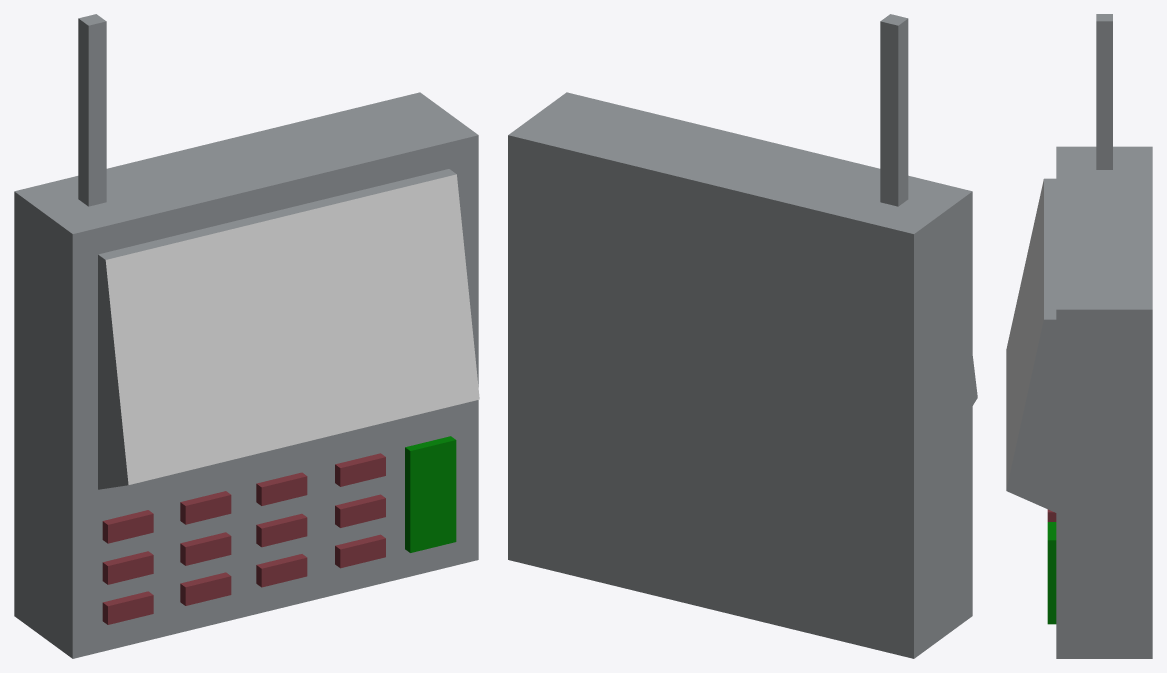
The model's file is Hackable_module_B.fbx.
The picture shows the model from 3 angles, left to right: view 1: azimuth 30°, elevation 25°; view 2: azimuth 150°, elevation 25°; view 3: azimuth 270°, elevation 25°; orthographic projection. The views are drawn at different scales.
Visible parts, largest first — view 1: Hackable_module_B, Hackable_module_B_Screen; view 2: Hackable_module_B; view 3: Hackable_module_B, Hackable_module_B_Screen.
Part boxes in pixels (left/top/right/bottom): Hackable_module_B: left=14, top=14, right=478, bottom=658; Hackable_module_B_Screen: left=105, top=174, right=479, bottom=484; Hackable_module_B: left=508, top=14, right=977, bottom=658; Hackable_module_B: left=1006, top=14, right=1152, bottom=658; Hackable_module_B_Screen: left=1006, top=179, right=1043, bottom=489.
Bounding box in the file's own units: 0.4 × 0.5704 × 0.152.
